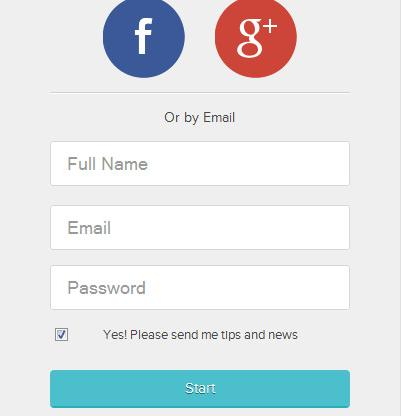button: (49, 369, 351, 408)
checkbox: (54, 326, 71, 341)
checkbox_with_label: (51, 324, 299, 343)
field: (49, 204, 350, 250), (49, 141, 351, 186), (49, 265, 350, 310)
